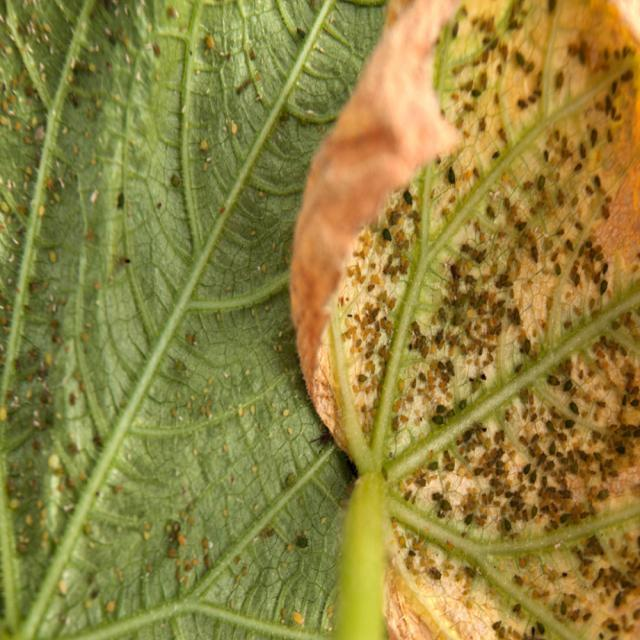Aphids: (350, 252, 628, 429), (457, 32, 631, 250), (404, 430, 634, 545), (0, 35, 91, 292), (5, 301, 87, 574), (427, 554, 640, 640), (148, 491, 248, 620), (166, 25, 250, 117), (154, 158, 208, 222), (374, 192, 438, 246), (288, 508, 325, 562), (279, 597, 323, 640), (274, 453, 308, 499)
